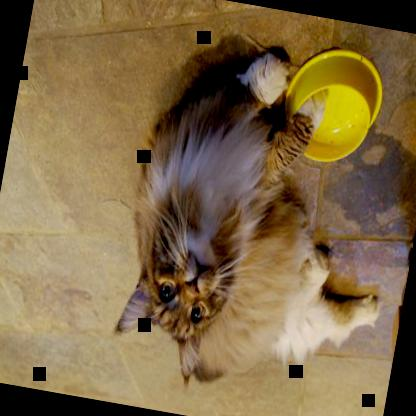cat: (108, 34, 415, 412)
